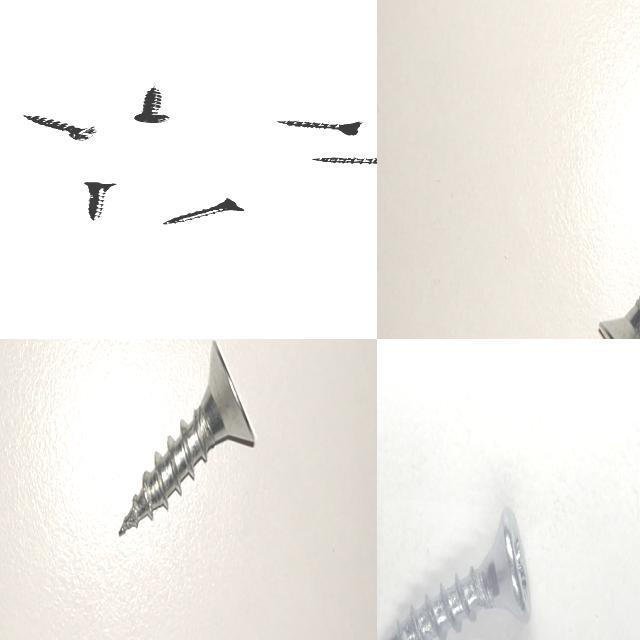Screw: (119, 340, 256, 535), (386, 508, 531, 640), (165, 198, 246, 224), (24, 114, 98, 141), (135, 86, 171, 123), (280, 120, 365, 135), (85, 182, 118, 220), (314, 157, 377, 164)
